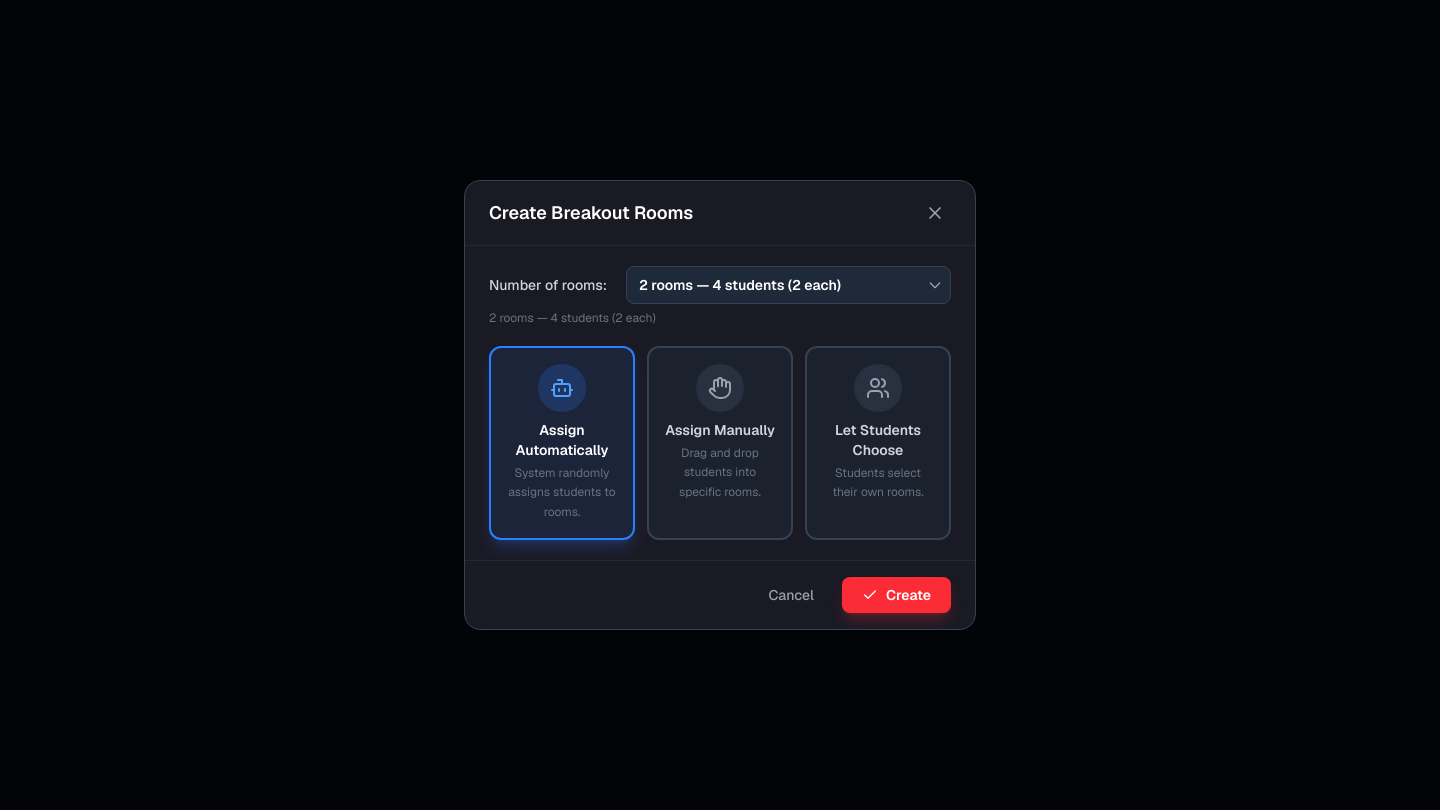
Test: CreateBreakoutModal — Number Dropdown (up to 25 rooms) › changing dropdown updates room capacity hint
The width and height of the screenshot is (1440, 810).
Expected: the text with test id "room-capacity-hint" reads "2 rooms — 4 students (2 each)", [489,310,656,326]
# Change to 4 rooms
Select "4 rooms — 4 students (1 each)" in the dropdown with test id "breakout-room-count": (788,285) [626,266,951,304]
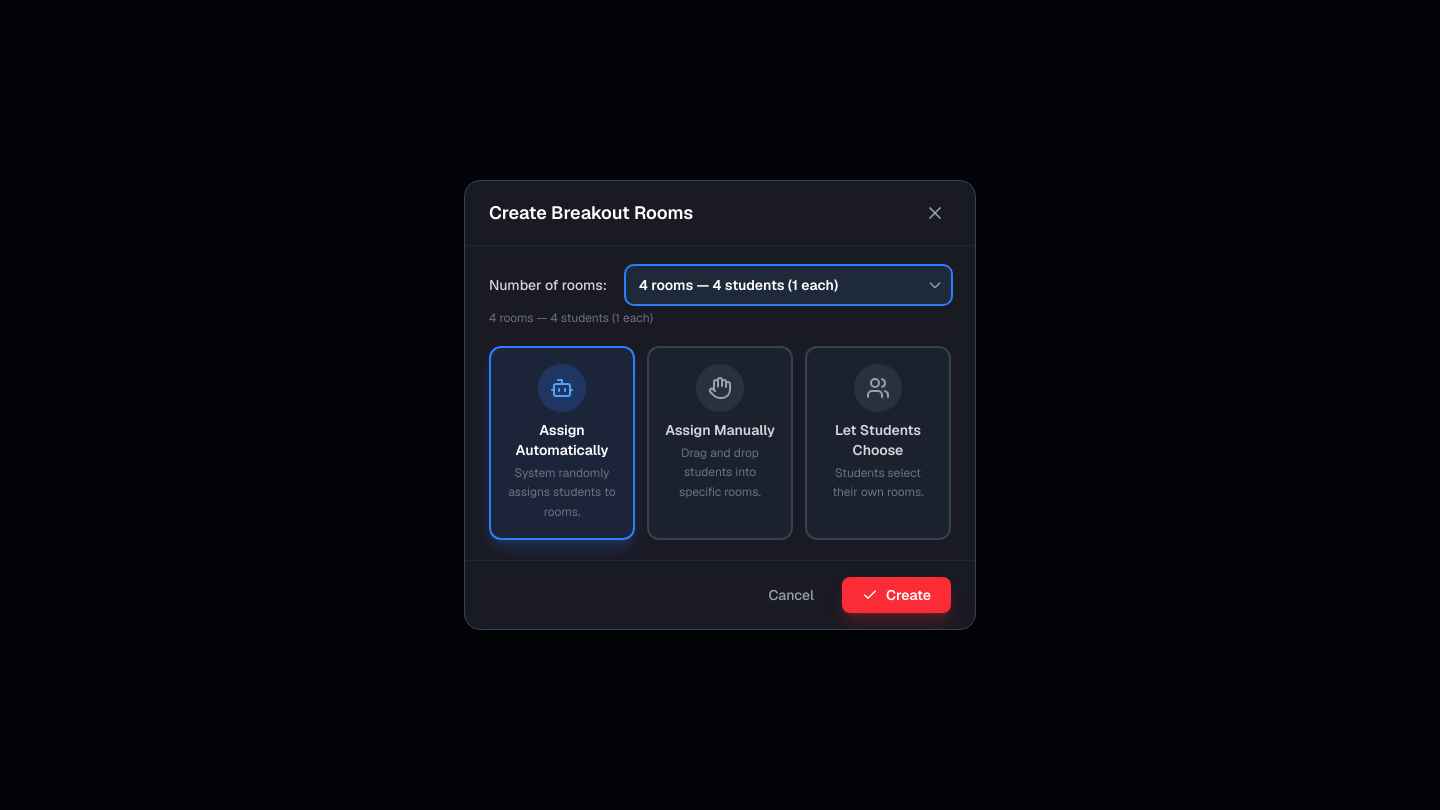
Expected: the text with test id "room-capacity-hint" reads "4 rooms — 4 students (1 each)", [489,310,653,326]
